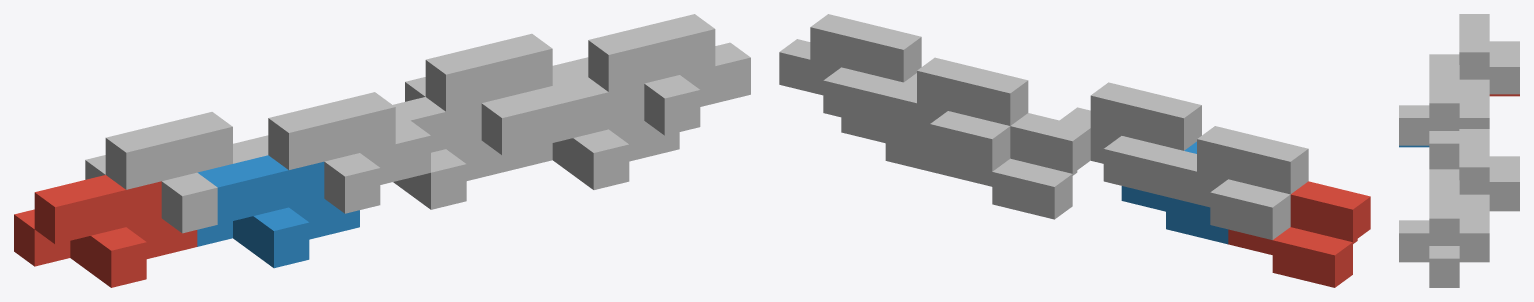
File: tiling.obj
3 views of the same model, side by side, from view 1: azimuth 30°, elevation 25°; view 2: azimuth 150°, elevation 25°; view 3: azimuth 270°, elevation 25° (orthographic). The views are drawn at different scales.
Parts seen in each view (by area): view 1: copy_1_domain_1, copy_1_domain_8, copy_1_domain_4, copy_1_domain_2, copy_1_domain_6, copy_1_domain_7, copy_1_domain_3, copy_1_domain_5; view 2: copy_1_domain_7, copy_1_domain_3, copy_1_domain_8, copy_1_domain_4, copy_1_domain_1, copy_1_domain_5, copy_1_domain_2, copy_1_domain_6; view 3: copy_1_domain_8, copy_1_domain_4, copy_1_domain_7, copy_1_domain_3, copy_1_domain_6, copy_1_domain_1, copy_1_domain_5, copy_1_domain_2.
Boxes of the visible parts, x1=… form: copy_1_domain_1: x1=14, y1=175, x2=197, y2=287; copy_1_domain_8: x1=568, y1=14, x2=750, y2=135; copy_1_domain_4: x1=248, y1=92, x2=430, y2=213; copy_1_domain_2: x1=197, y1=155, x2=359, y2=268; copy_1_domain_6: x1=517, y1=77, x2=679, y2=189; copy_1_domain_7: x1=405, y1=33, x2=587, y2=155; copy_1_domain_3: x1=85, y1=112, x2=267, y2=233; copy_1_domain_5: x1=393, y1=97, x2=516, y2=209; copy_1_domain_7: x1=885, y1=57, x2=1028, y2=171; copy_1_domain_3: x1=1166, y1=126, x2=1308, y2=239; copy_1_domain_8: x1=779, y1=14, x2=921, y2=127; copy_1_domain_4: x1=1059, y1=82, x2=1201, y2=196; copy_1_domain_1: x1=1228, y1=181, x2=1370, y2=287; copy_1_domain_5: x1=948, y1=113, x2=1090, y2=219; copy_1_domain_2: x1=1121, y1=141, x2=1228, y2=244; copy_1_domain_6: x1=841, y1=73, x2=947, y2=175; copy_1_domain_8: x1=1399, y1=180, x2=1489, y2=285; copy_1_domain_4: x1=1399, y1=65, x2=1489, y2=169; copy_1_domain_7: x1=1429, y1=129, x2=1519, y2=209; copy_1_domain_3: x1=1429, y1=14, x2=1519, y2=94; copy_1_domain_6: x1=1399, y1=260, x2=1489, y2=287; copy_1_domain_1: x1=1489, y1=94, x2=1519, y2=96; copy_1_domain_5: x1=1489, y1=209, x2=1519, y2=211; copy_1_domain_2: x1=1399, y1=145, x2=1429, y2=147.
Bounding box in the file's own units: 19 × 3 × 4.
